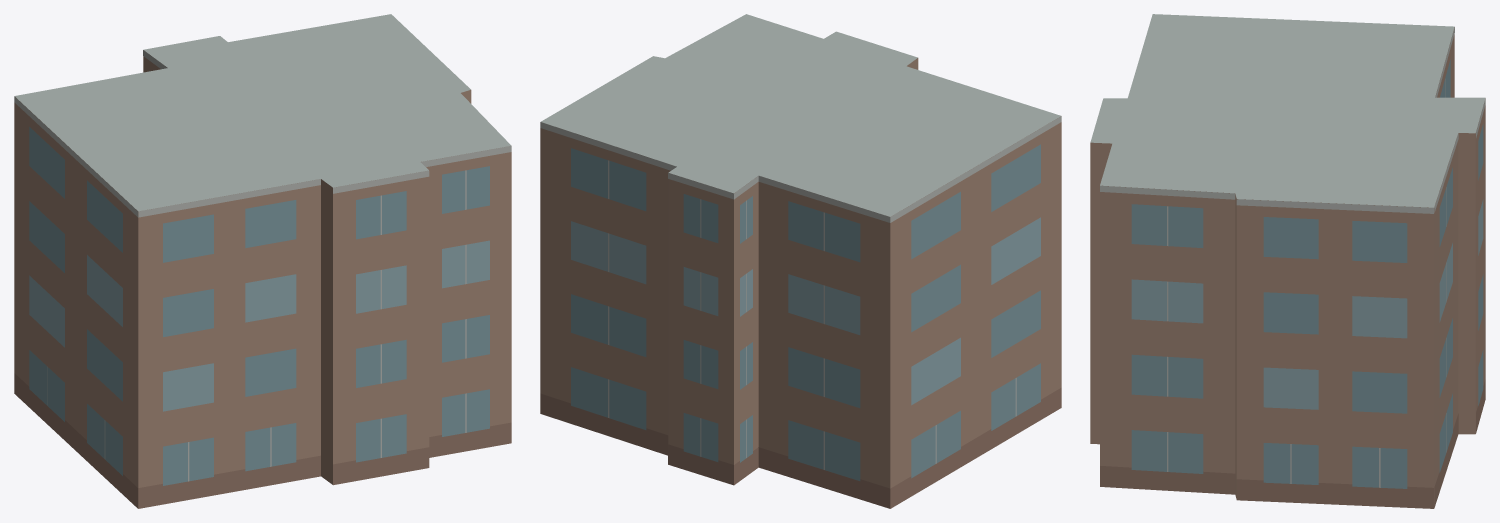
File: survey-upis-32496429.glb
The picture shows the model from 3 angles, left to right: view 1: azimuth 30°, elevation 25°; view 2: azimuth 150°, elevation 25°; view 3: azimuth 270°, elevation 25°; orthographic projection. The views are drawn at different scales.
Parts seen in each view (by area): view 1: survey-upis-32496429.tmp; view 2: survey-upis-32496429.tmp; view 3: survey-upis-32496429.tmp.
Part boxes in pixels (x1,y1,x2,y2): survey-upis-32496429.tmp: (14, 14, 511, 508); survey-upis-32496429.tmp: (540, 14, 1061, 508); survey-upis-32496429.tmp: (1090, 14, 1485, 508).
Size of the model in its own units: 16.15 by 11.7 by 13.93.
